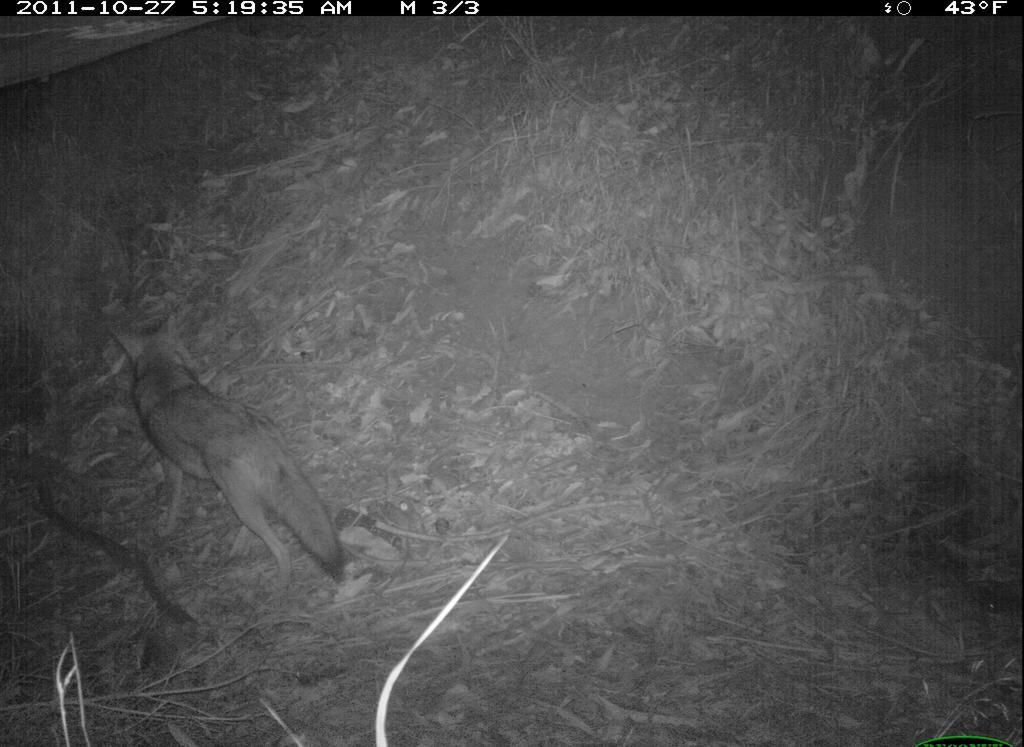coyote: (108, 309, 350, 601)
